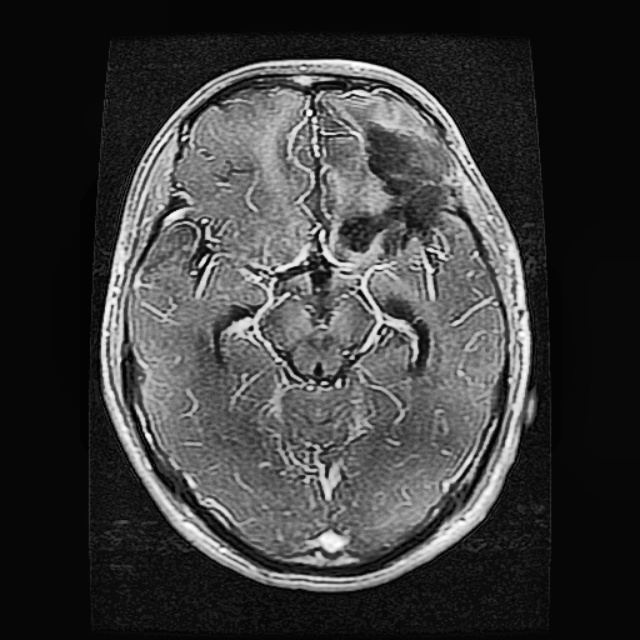Glioma: (340, 118, 455, 257)
